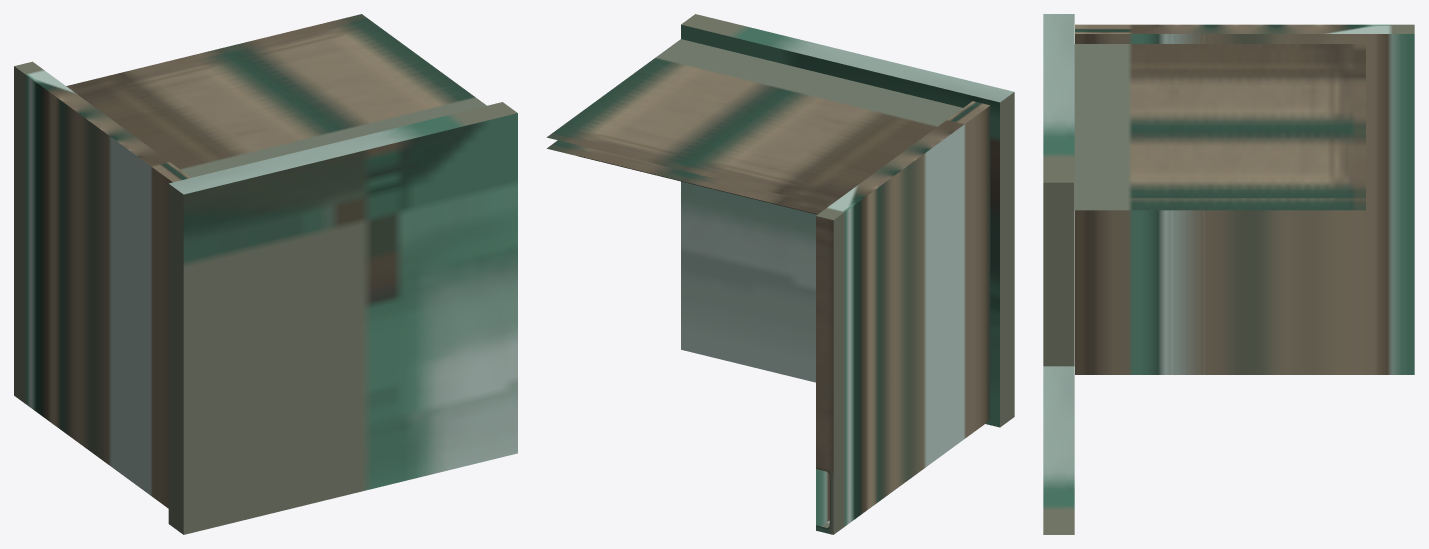
The model's file is section-4.obj.
3 views of the same model, side by side, from view 1: azimuth 30°, elevation 25°; view 2: azimuth 150°, elevation 25°; view 3: azimuth 270°, elevation 25° (orthographic). The views are drawn at different scales.
Size of the model in its own units: 0.902 by 0.878 by 0.8395.
